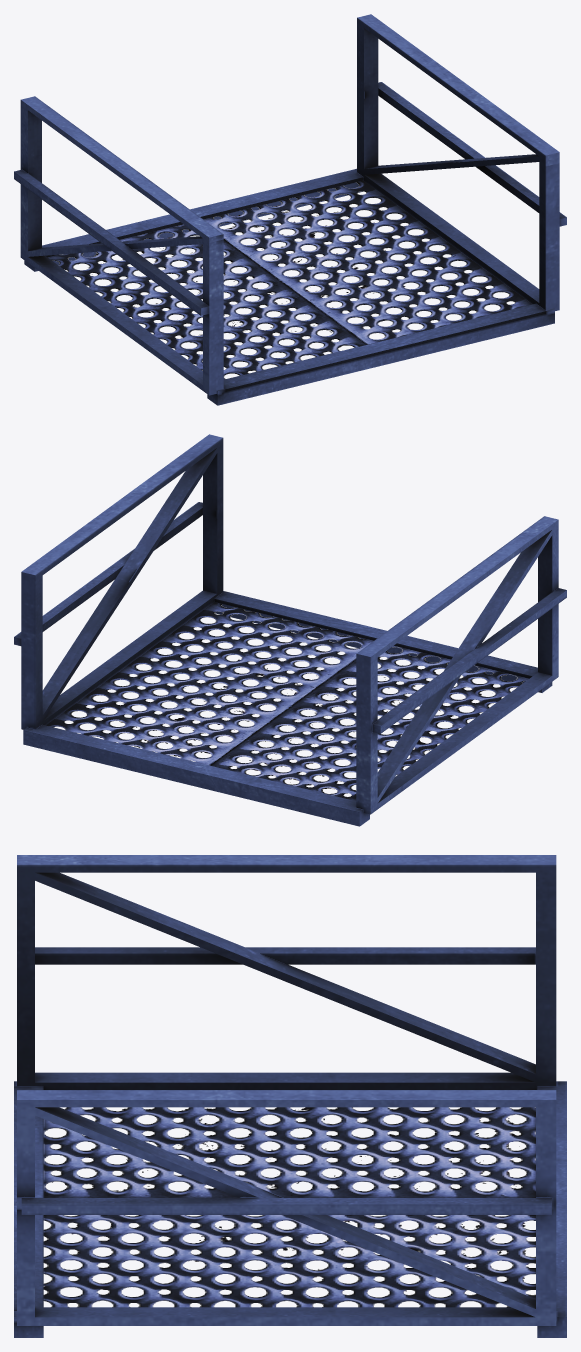
File: WalkwayStraightShort.FBX
3 renders of one model, top to bottom at view 1: azimuth 30°, elevation 25°; view 2: azimuth 150°, elevation 25°; view 3: azimuth 270°, elevation 25°, orthographic. The views are drawn at different scales.
Visible parts, largest first — view 1: Object017, Object039, Object038; view 2: Object017, Object038, Object039; view 3: Object017, Object038, Object039.
Part boxes in pixels (x1=…): Object017: x1=14, y1=14, x2=566, y2=395; Object039: x1=207, y1=303, x2=554, y2=405; Object038: x1=24, y1=168, x2=363, y2=271; Object017: x1=14, y1=434, x2=566, y2=814; Object038: x1=23, y1=724, x2=369, y2=826; Object039: x1=214, y1=591, x2=552, y2=692; Object017: x1=17, y1=855, x2=556, y2=1325; Object038: x1=537, y1=1081, x2=566, y2=1337; Object039: x1=14, y1=1081, x2=43, y2=1337.
Bounding box in the file's own units: 15.98 × 7.02 × 14.54.
